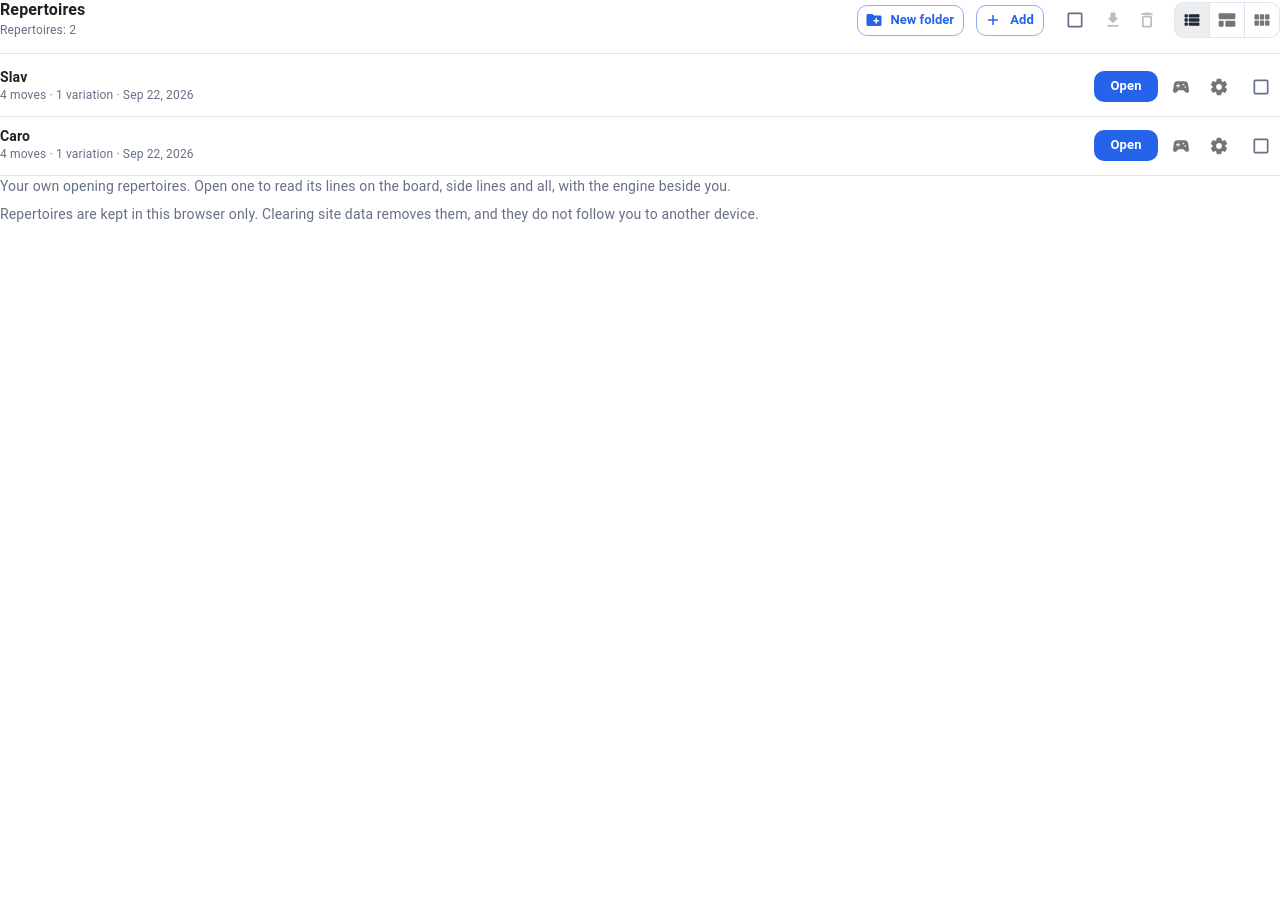
Test case: the Repertoires list › picks, downloads and deletes on the cards too, keeping the picks across views
Click the checkbox named "Select this repertoire" at x=1261, y=146, box x1=1251 y1=136 x2=1271 y2=156
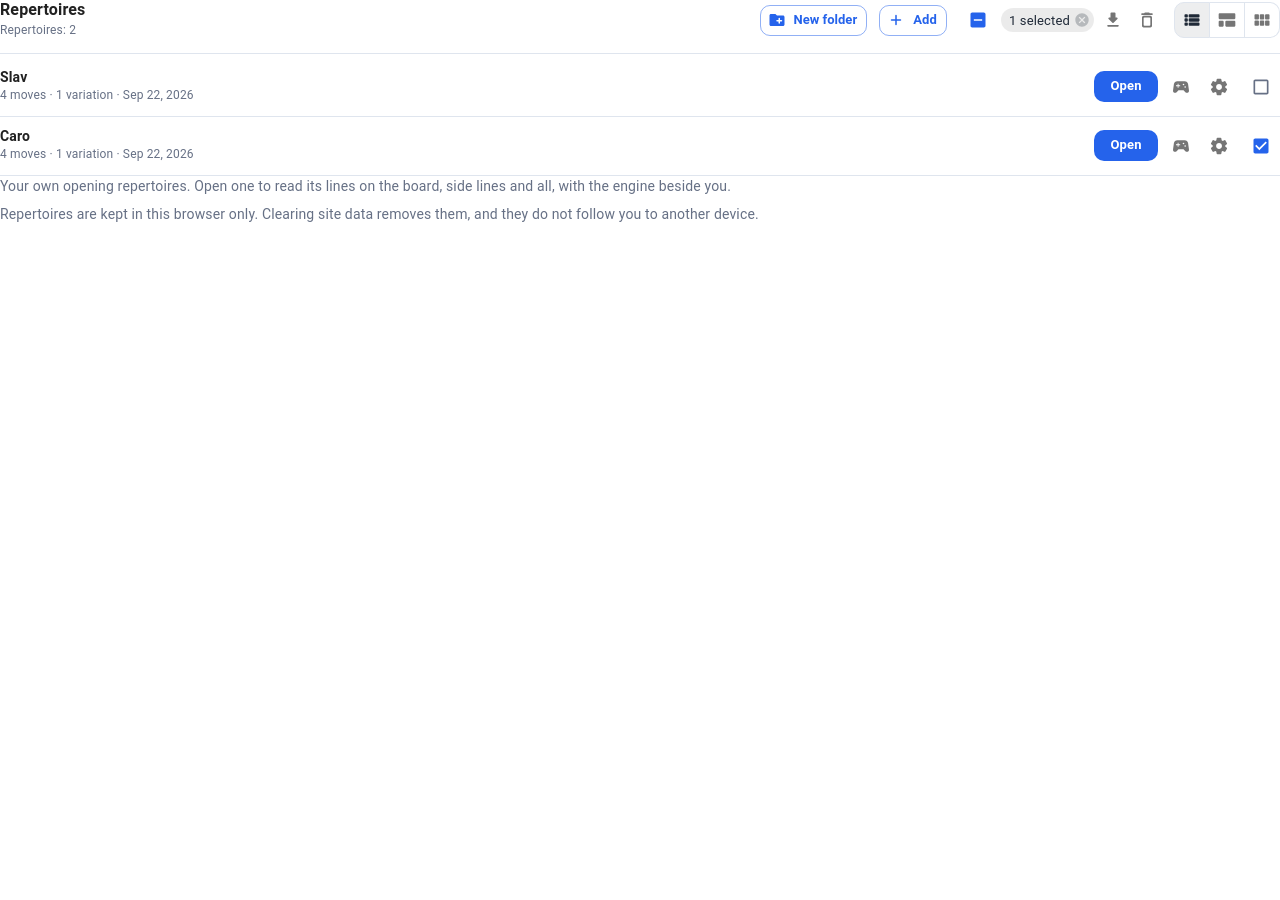
Click the button with test id "repertoires-view-compact" at x=1227, y=20, box x1=1209 y1=2 x2=1245 y2=38
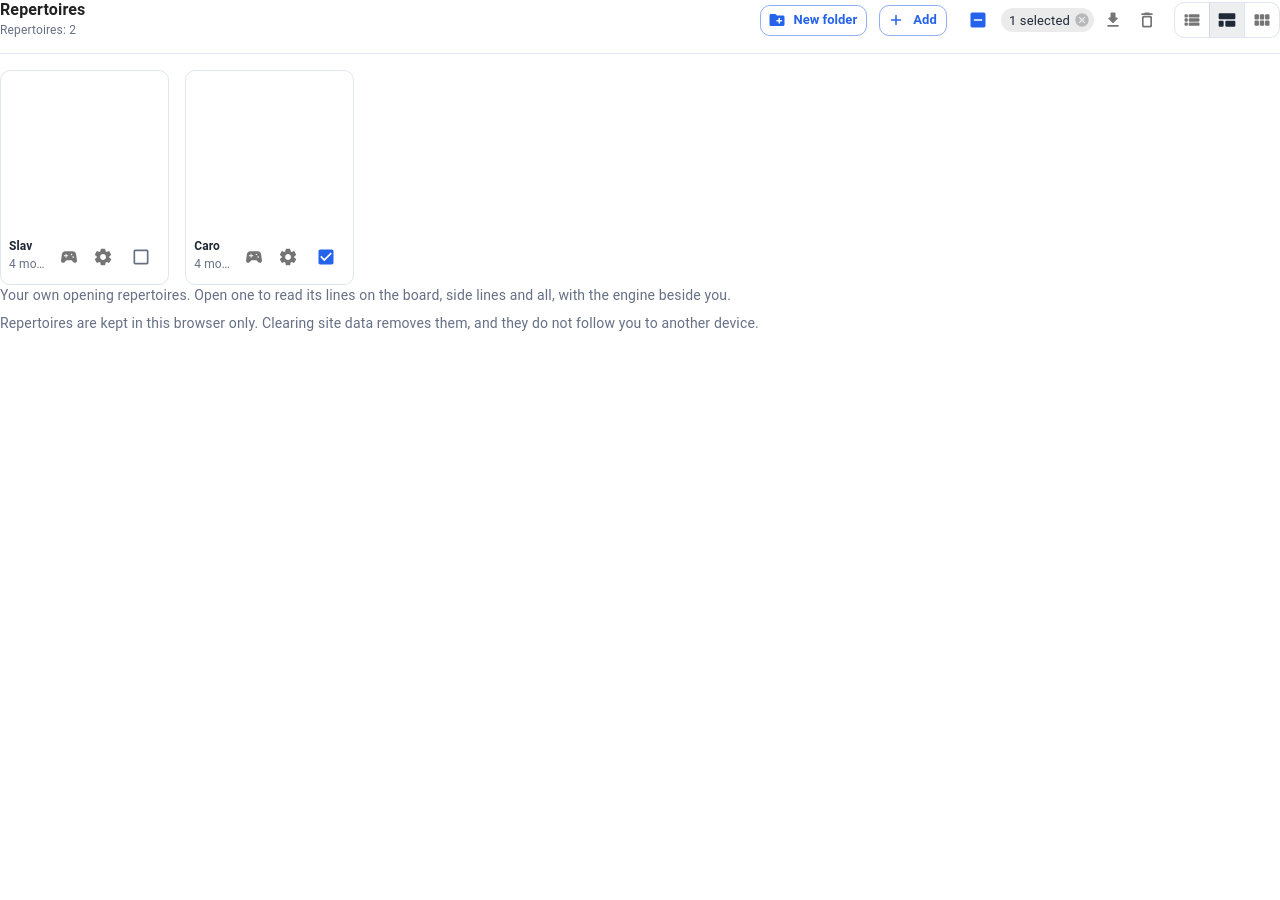
expect the checkbox named "Select this repertoire" is checked: met, box x1=316 y1=247 x2=336 y2=267
expect the button with test id "repertoires-selected-count" shows "1": met, box x1=1001 y1=8 x2=1094 y2=32
expect the button with test id "repertoires-download" is enabled: met, box x1=1098 y1=5 x2=1128 y2=35
Click the button with test id "repertoires-view-comfortable" at x=1262, y=20, box x1=1244 y1=2 x2=1279 y2=38
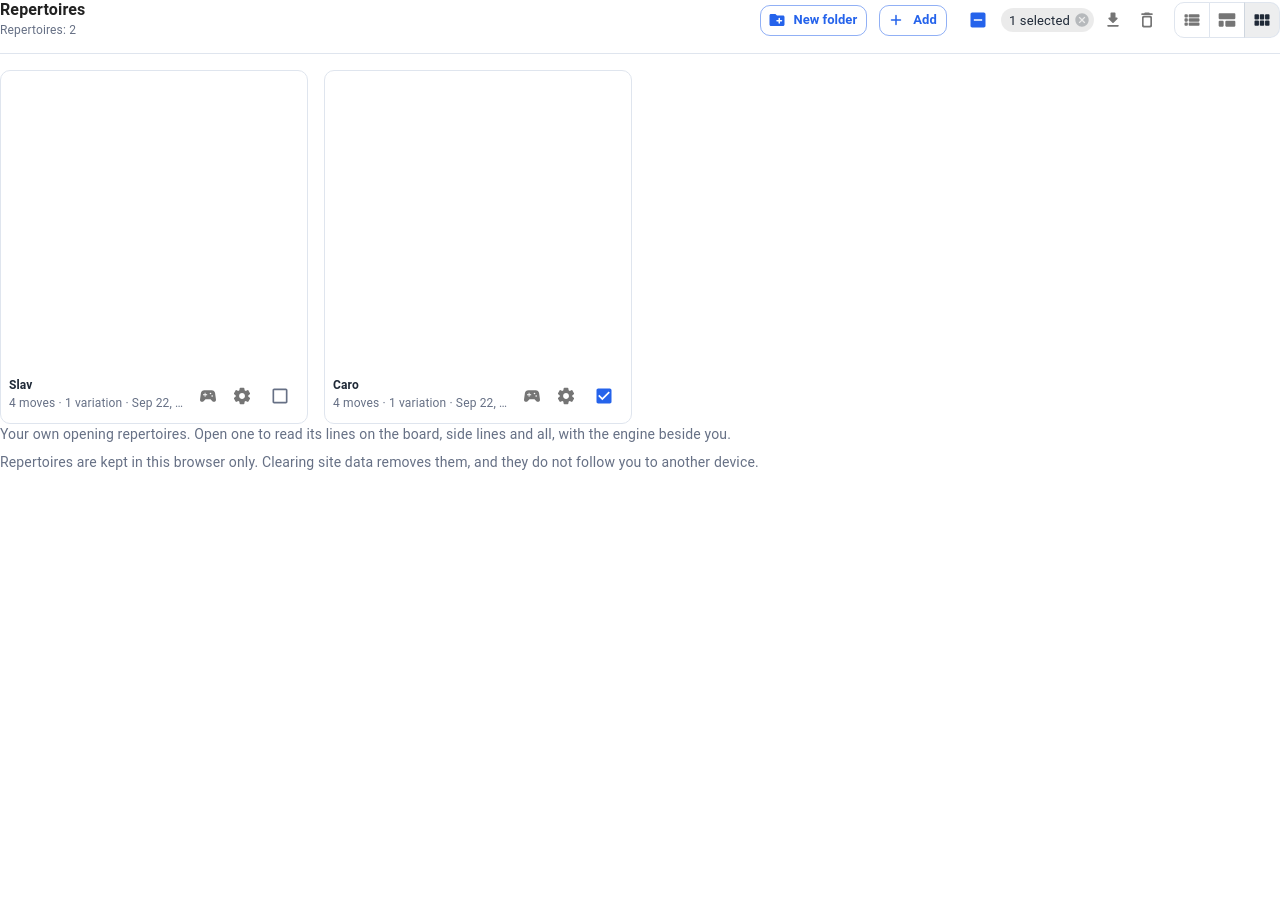
expect the checkbox named "Select this repertoire" is checked: met, box x1=594 y1=386 x2=614 y2=406
expect the button with test id "repertoires-selected-count" shows "1": met, box x1=1001 y1=8 x2=1094 y2=32
expect the button with test id "repertoires-download" is enabled: met, box x1=1098 y1=5 x2=1128 y2=35
Click the checkbox named "Select this repertoire" at x=280, y=396, box x1=270 y1=386 x2=290 y2=406
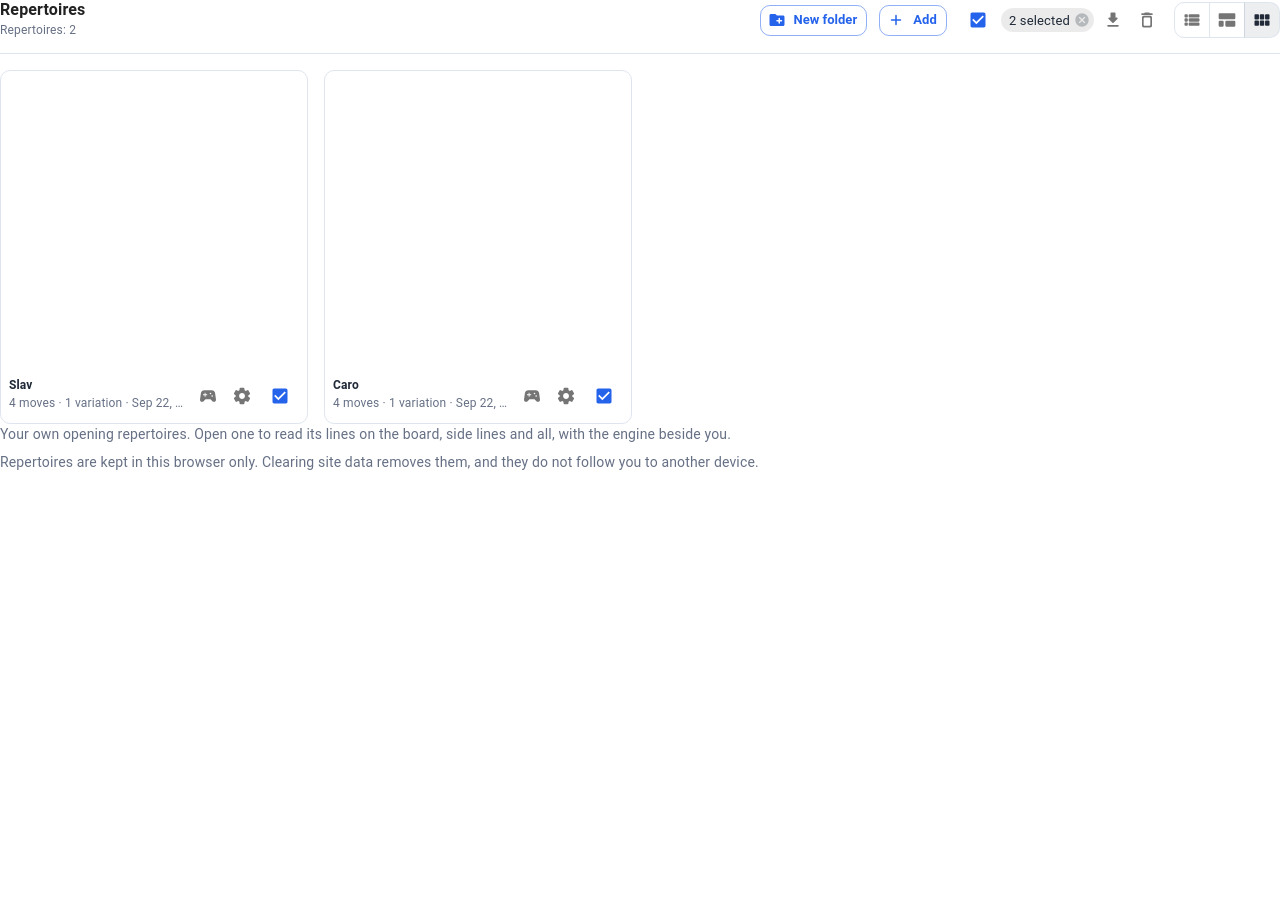
expect the button with test id "repertoires-selected-count" shows "2": met, box x1=1001 y1=8 x2=1094 y2=32
Click the button with test id "repertoires-delete" at x=1147, y=20, box x1=1132 y1=5 x2=1162 y2=35
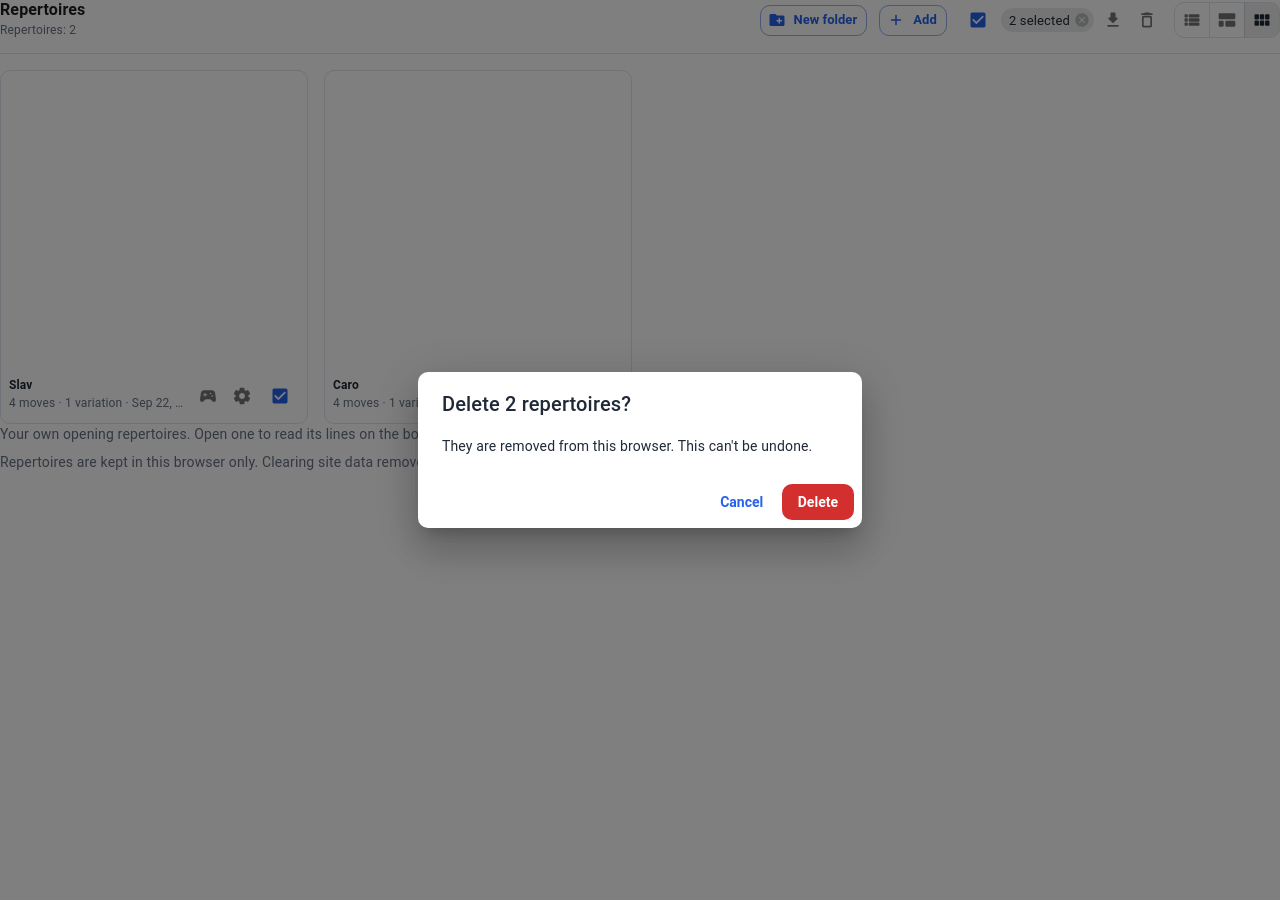
Click the button with test id "repertoires-delete-confirm" at x=818, y=502, box x1=782 y1=484 x2=854 y2=520
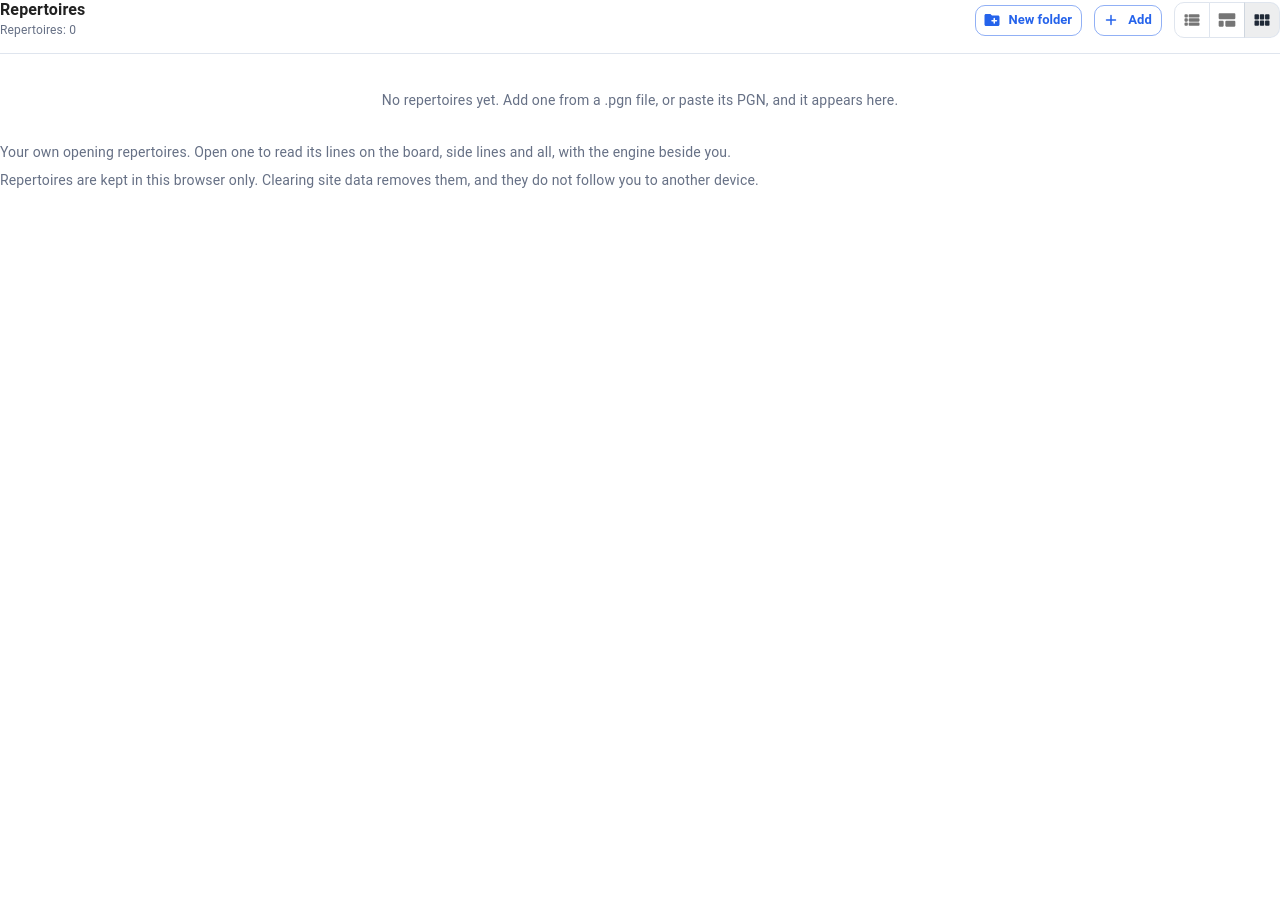
expect the text with test id "repertoires-empty" is shown: met, box x1=382 y1=92 x2=898 y2=108
